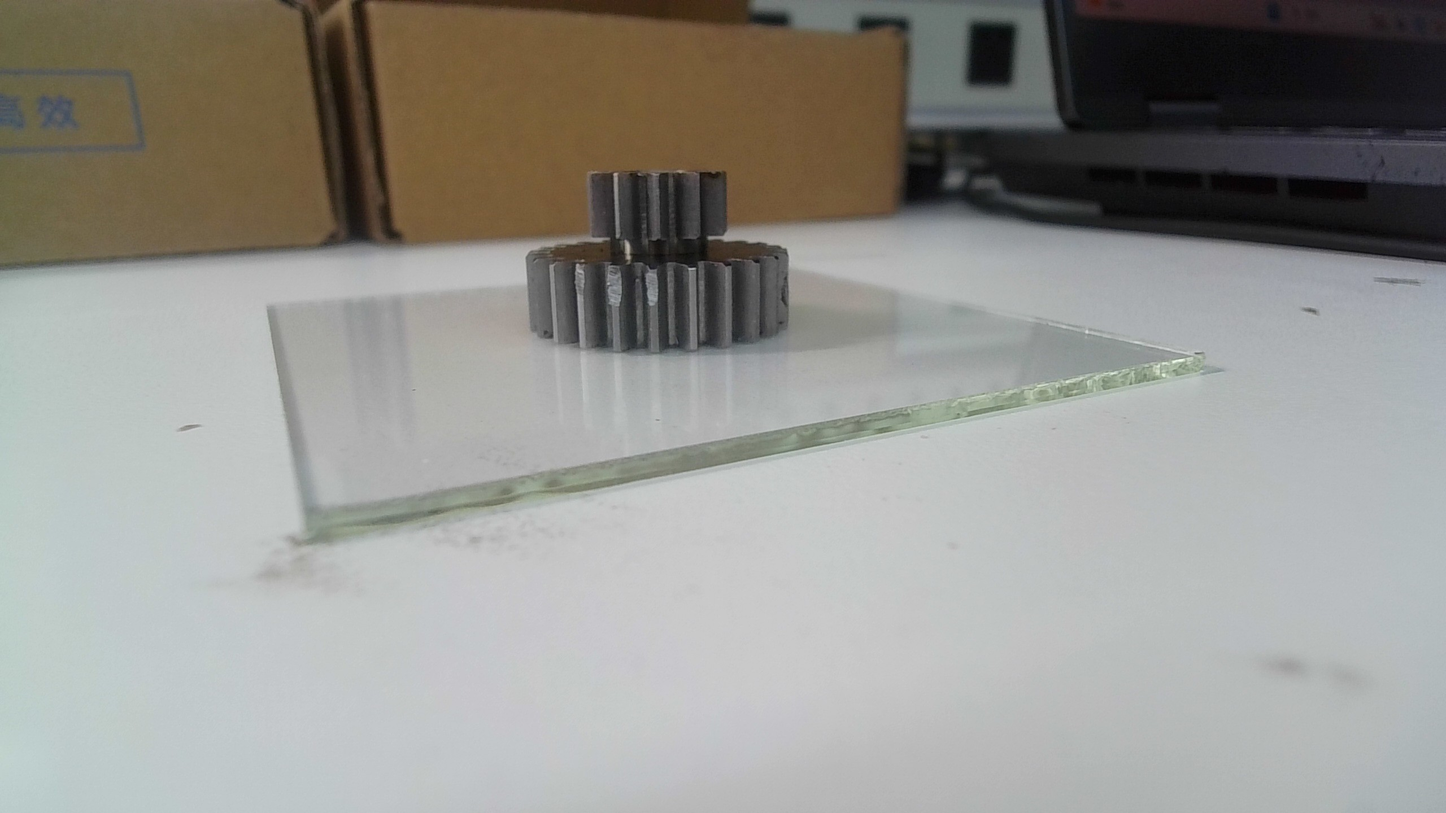gear: (521, 163, 794, 355)
